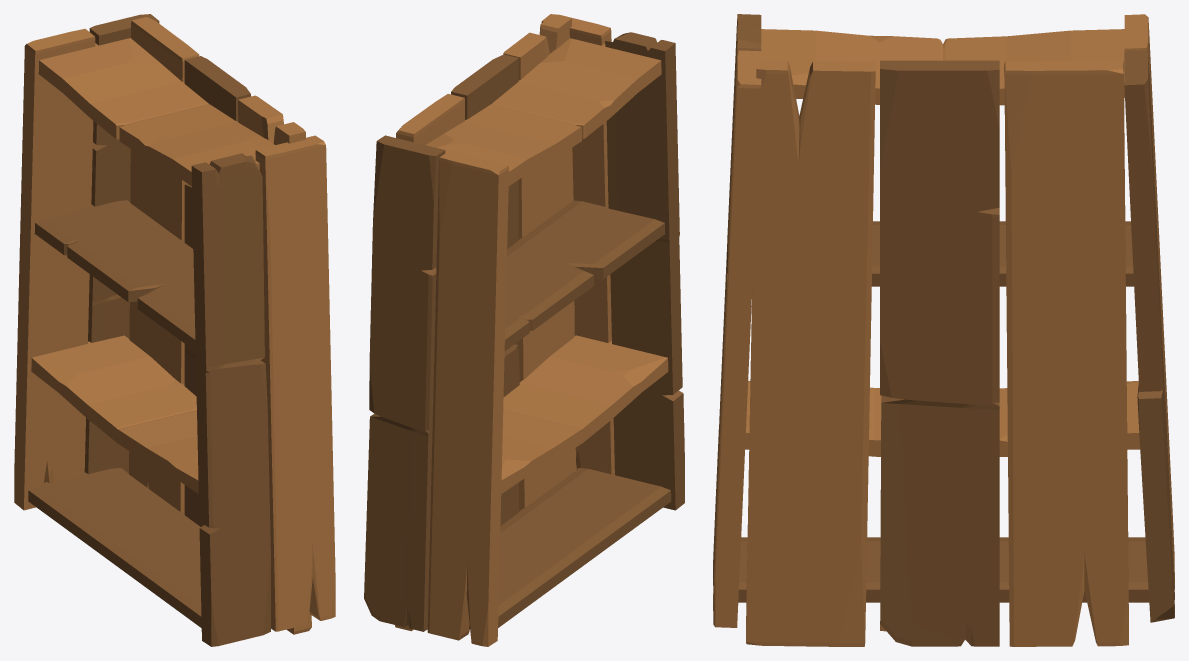
The model's file is Low Poly Wood Shelf With back.fbx.
The picture shows the model from 3 angles, left to right: view 1: azimuth 30°, elevation 25°; view 2: azimuth 150°, elevation 25°; view 3: azimuth 270°, elevation 25°; orthographic projection. The views are drawn at different scales.
Visible parts, largest first — view 1: Wood Shelf No Back; view 2: Wood Shelf No Back; view 3: Wood Shelf No Back.
Boxes of the visible parts, bbox=[...] form: Wood Shelf No Back: bbox=[14, 14, 335, 646]; Wood Shelf No Back: bbox=[364, 14, 684, 646]; Wood Shelf No Back: bbox=[713, 14, 1174, 646].
Bounding box in the file's own units: 63.28 × 242 × 176.
